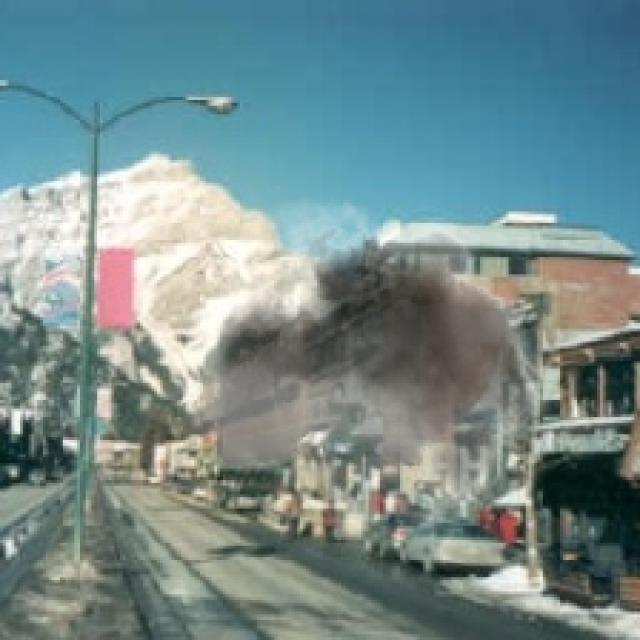Smoke: (177, 179, 569, 572)
